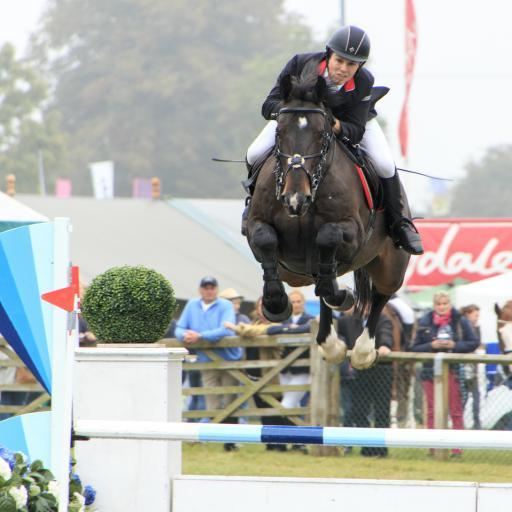Horse: (242, 70, 414, 372)
